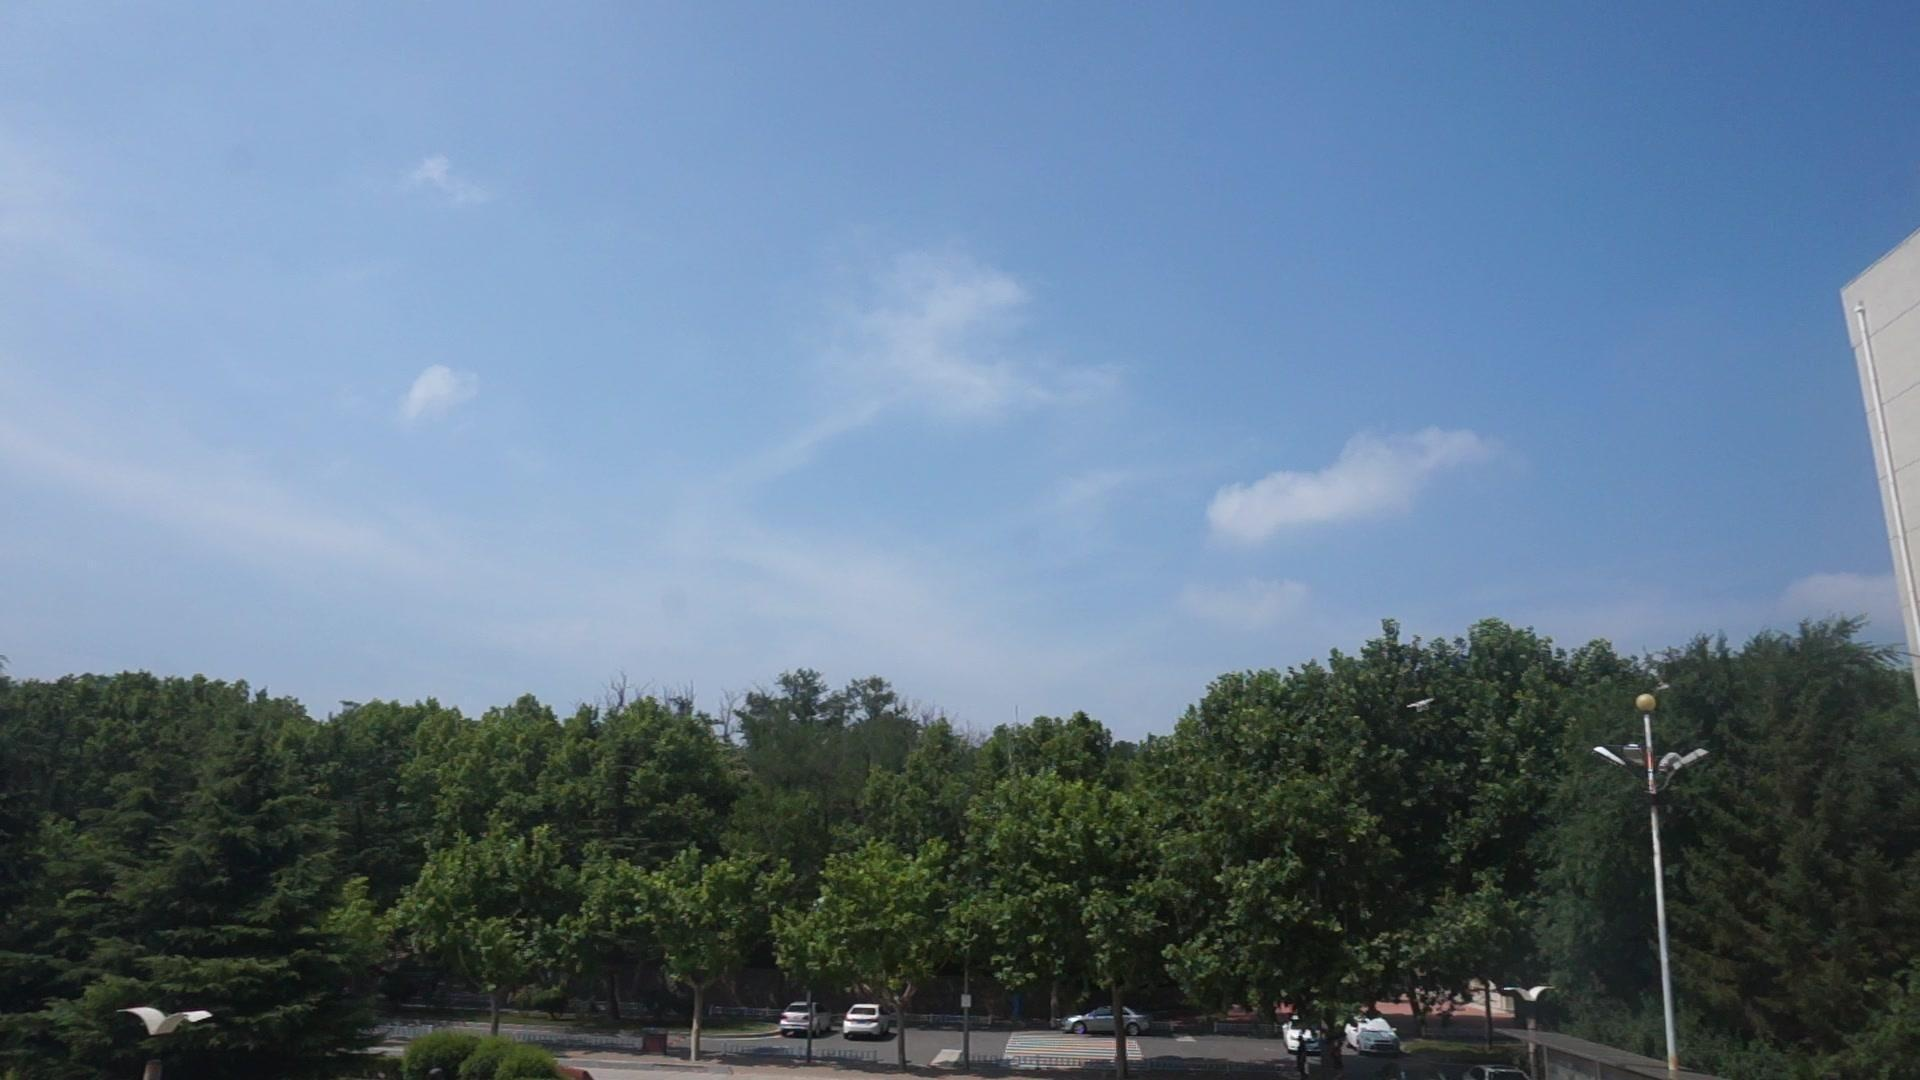UAV: (1407, 699, 1435, 713)
